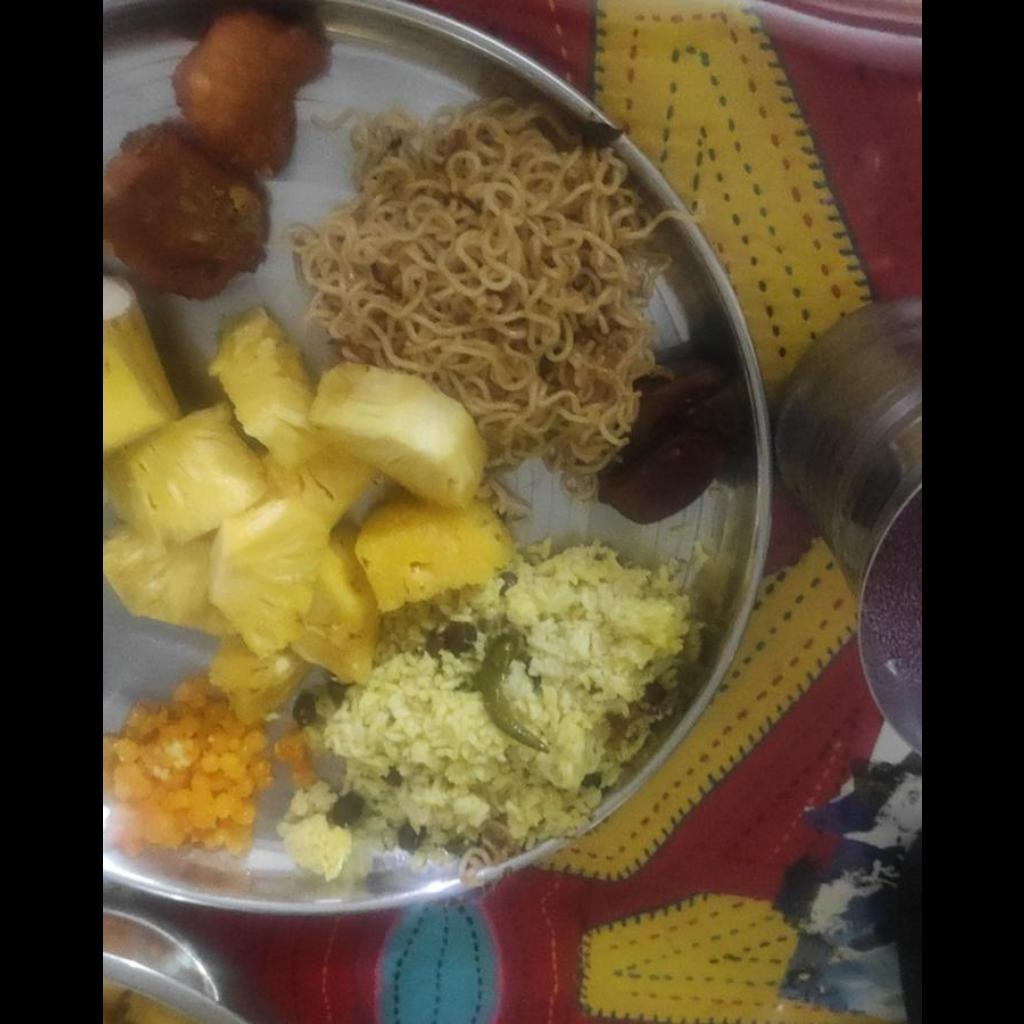burinda: (104, 680, 273, 865)
chop-alu: (102, 1, 340, 296)
noodles: (298, 105, 676, 491)
pineapple: (102, 303, 519, 679)
rice: (284, 543, 700, 868)
